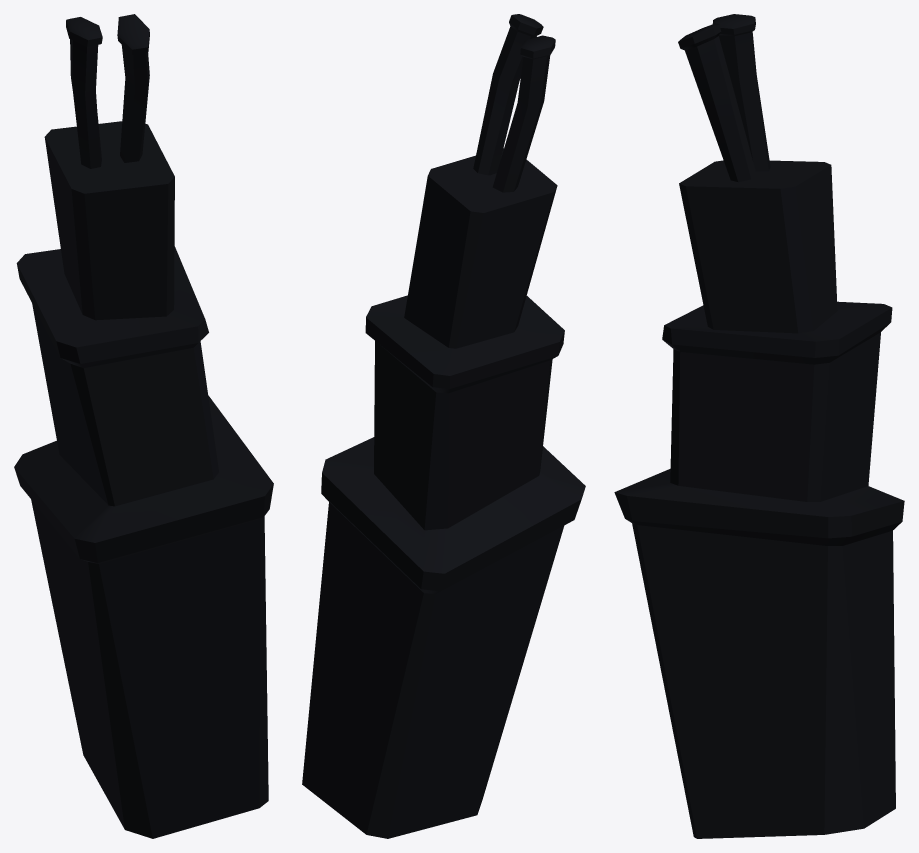
Rendered from SM_L_R_Home_Chemney.fbx.
The picture shows the model from 3 angles, left to right: view 1: azimuth 30°, elevation 25°; view 2: azimuth 150°, elevation 25°; view 3: azimuth 270°, elevation 25°; orthographic projection. The views are drawn at different scales.
Visible parts, largest first — view 1: SM_L_R_Home_Chimney; view 2: SM_L_R_Home_Chimney; view 3: SM_L_R_Home_Chimney.
Boxes of the visible parts, box(x1,y1,x2,y2) form: SM_L_R_Home_Chimney: box(14, 14, 273, 838); SM_L_R_Home_Chimney: box(302, 14, 585, 838); SM_L_R_Home_Chimney: box(614, 14, 904, 838).
Size of the model in its own units: 0.4996 by 1.79 by 0.6044.
